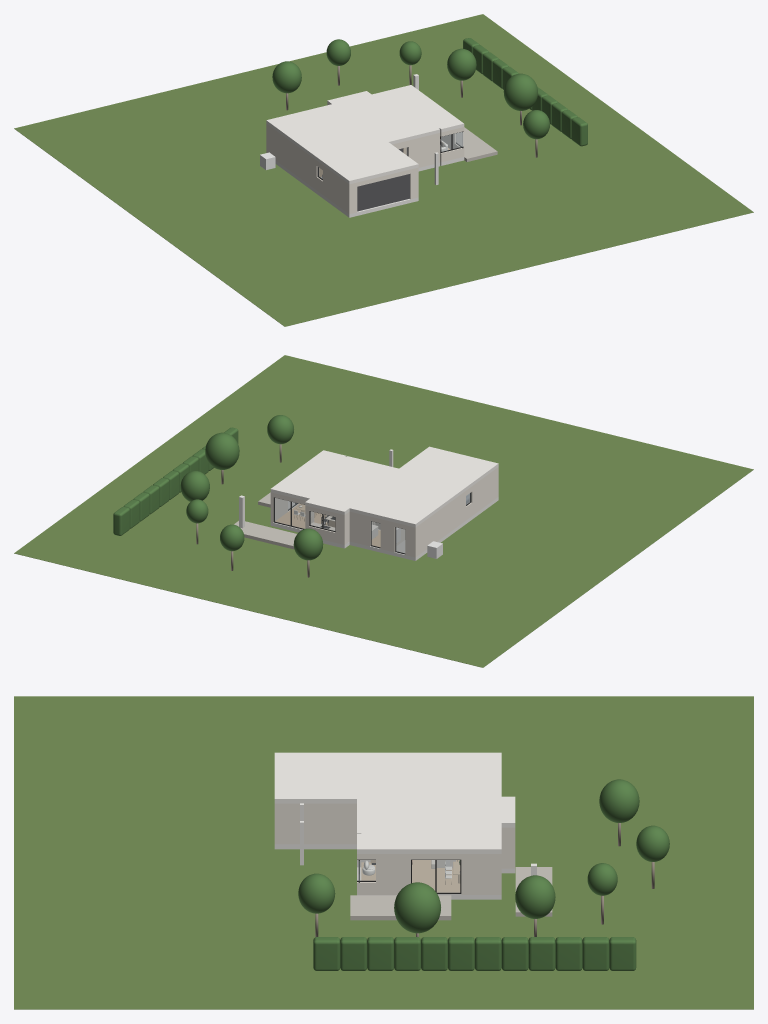
The model's file is parter.glb.
3 views of the same model, one above another, from view 1: azimuth 30°, elevation 25°; view 2: azimuth 150°, elevation 25°; view 3: azimuth 270°, elevation 25° (orthographic). The views are drawn at different scales.
Parts seen in each view (by area): view 1: teren_trawa, strop, brama, korona.002, sciana_0, sciana_36, plyta_podlogi, taras_wsch, korona.005, korona.001, sciana_2, korona.003 (+1 smaller); view 2: teren_trawa, strop, korona.002, sciana_0, taras_pn, plyta_podlogi, sciana_2, korona.005, korona.001, szyba.003, sciana_20, korona.003 (+1 smaller); view 3: teren_trawa, strop, sciana_29, korona.002, sciana_41, taras_wsch, korona.001, korona.005, sciana_42, szyba.004, podloga_1/02, korona.003 (+16 smaller).
Boxes of the visible parts, <box> form: teren_trawa: <box>14,14,753,326</box>; strop: <box>266,85,464,184</box>; brama: <box>357,174,409,211</box>; korona.002: <box>503,73,537,110</box>; sciana_0: <box>267,125,299,177</box>; sciana_36: <box>408,133,439,167</box>; plyta_podlogi: <box>275,157,464,217</box>; taras_wsch: <box>441,127,497,161</box>; korona.005: <box>272,61,301,93</box>; korona.001: <box>447,48,476,80</box>; sciana_2: <box>323,165,347,212</box>; korona.003: <box>523,110,549,139</box>; teren_trawa: <box>14,355,753,667</box>; strop: <box>270,446,498,527</box>; korona.002: <box>205,432,239,469</box>; sciana_0: <box>417,503,448,555</box>; taras_pn: <box>234,521,296,549</box>; plyta_podlogi: <box>270,497,498,560</box>; sciana_2: <box>469,468,496,515</box>; korona.005: <box>293,528,323,560</box>; korona.001: <box>180,471,209,501</box>; szyba.003: <box>275,498,304,528</box>; sciana_20: <box>349,511,370,546</box>; korona.003: <box>267,415,293,444</box>; teren_trawa: <box>14,696,753,1009</box>; strop: <box>274,752,515,853</box>; sciana_29: <box>280,803,356,844</box>; korona.002: <box>394,882,440,933</box>; sciana_41: <box>461,854,501,894</box>; taras_wsch: <box>350,895,451,920</box>; korona.001: <box>515,875,555,918</box>; korona.005: <box>599,779,639,822</box>; sciana_42: <box>376,854,410,894</box>; szyba.004: <box>412,860,459,892</box>; podloga_1/02: <box>361,860,460,892</box>; korona.003: <box>298,873,335,913</box>.
Bounding box in the file's own units: 44 × 4.48 × 44.
